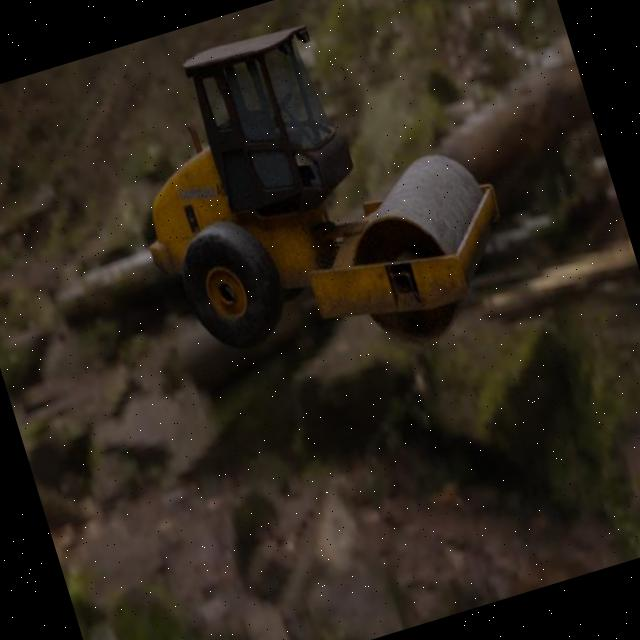Roller: (97, 0, 532, 415)
